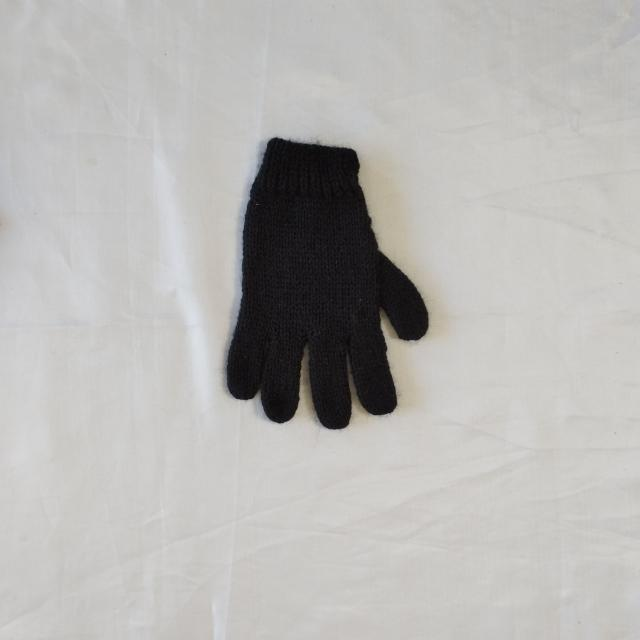Guante: (225, 135, 430, 430)
